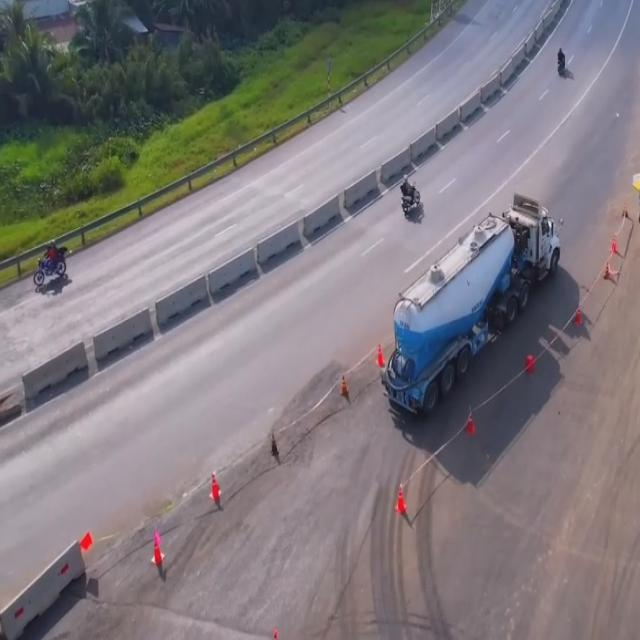motorbike: (33, 242, 66, 287), (402, 173, 423, 218), (554, 49, 567, 76)
truck: (379, 191, 560, 417)
